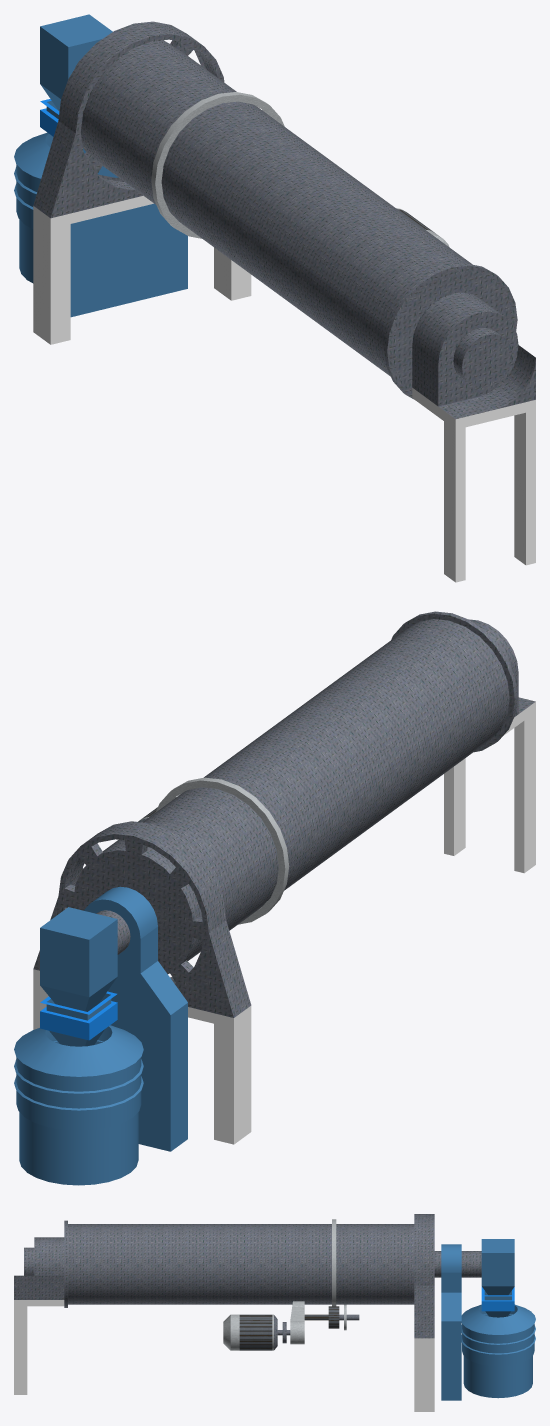
Rendered from 干磨机.glb.
The picture shows the model from 3 angles, top to bottom: view 1: azimuth 30°, elevation 25°; view 2: azimuth 150°, elevation 25°; view 3: azimuth 270°, elevation 25°; orthographic projection. The views are drawn at different scales.
Visible parts, largest first — view 1: root; view 2: root; view 3: root.
Boxes of the visible parts, box(x1,y1,x2,y2) form: root: box(14, 14, 535, 582); root: box(14, 611, 535, 1185); root: box(14, 1214, 535, 1411).
Bounding box in the file's own units: 2.42 × 2.7 × 7.76.
7 materials, 4 textured.
